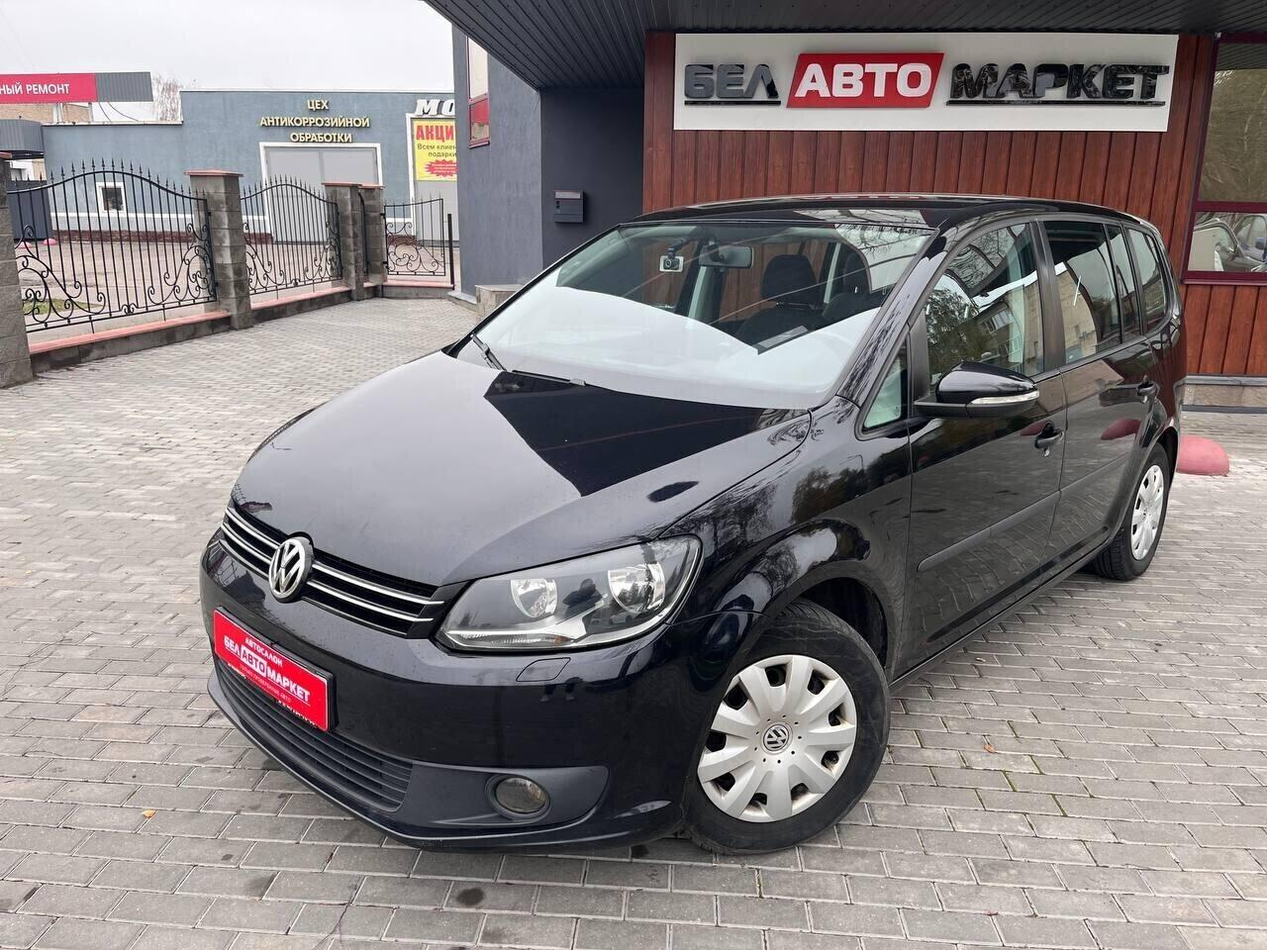Touran_2010-2015: (197, 197, 1195, 854)
